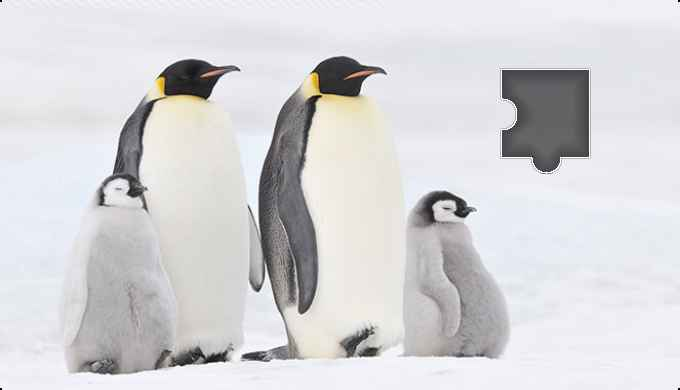gap: (501, 70, 589, 174)
